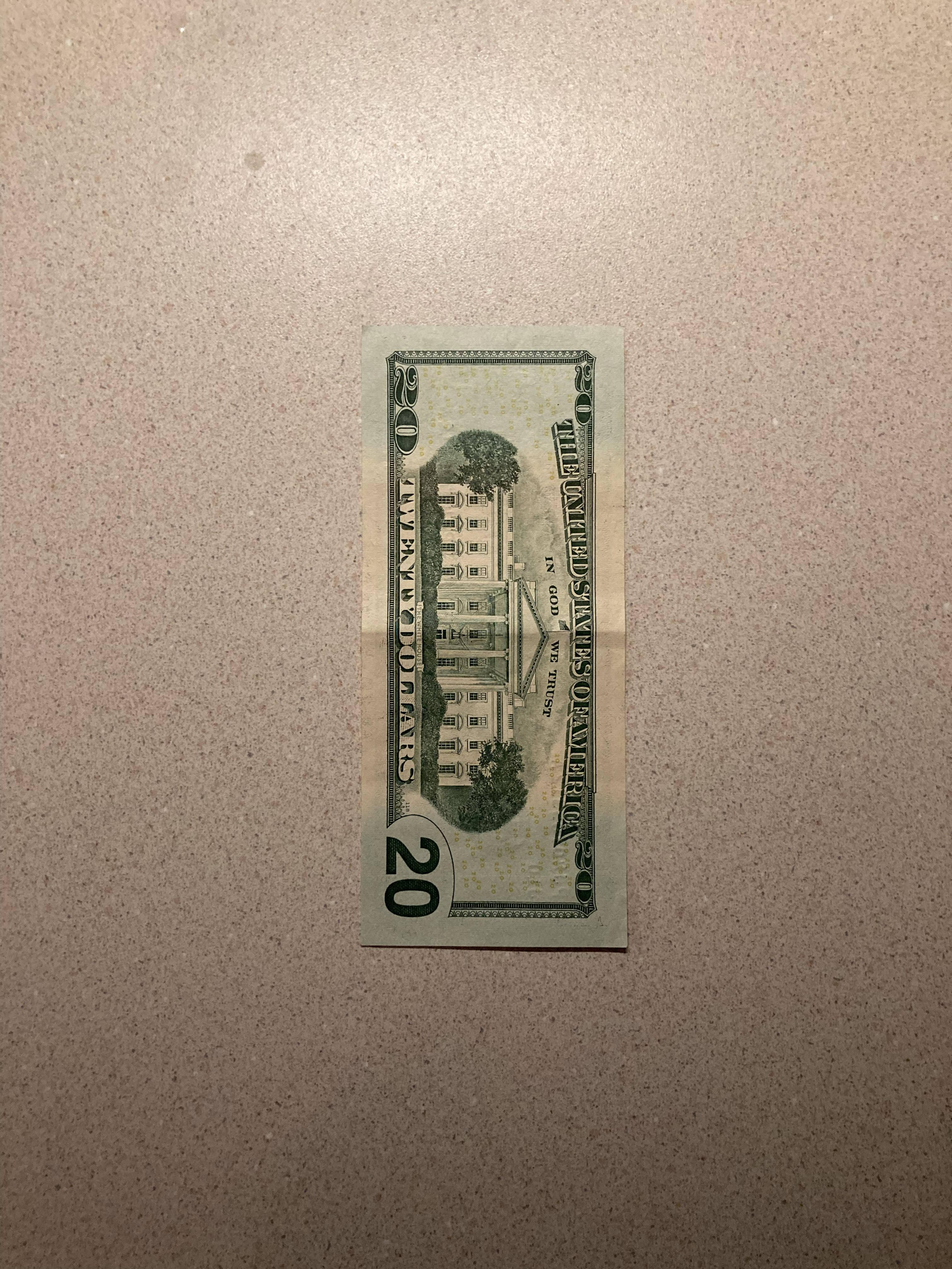twenty-back: (355, 324, 625, 951)
